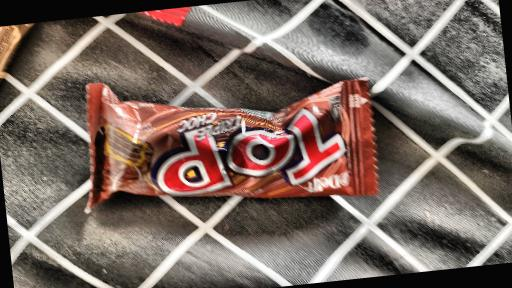top: (65, 50, 393, 239)
